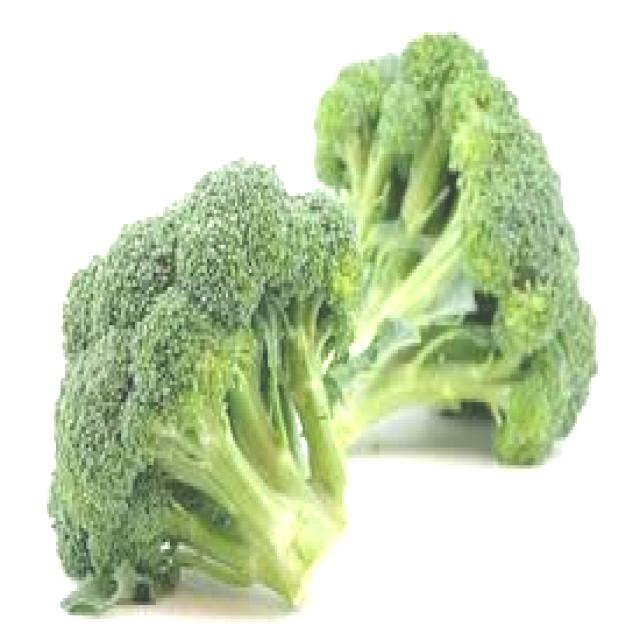broccoli: (44, 136, 362, 630), (275, 20, 610, 478)
